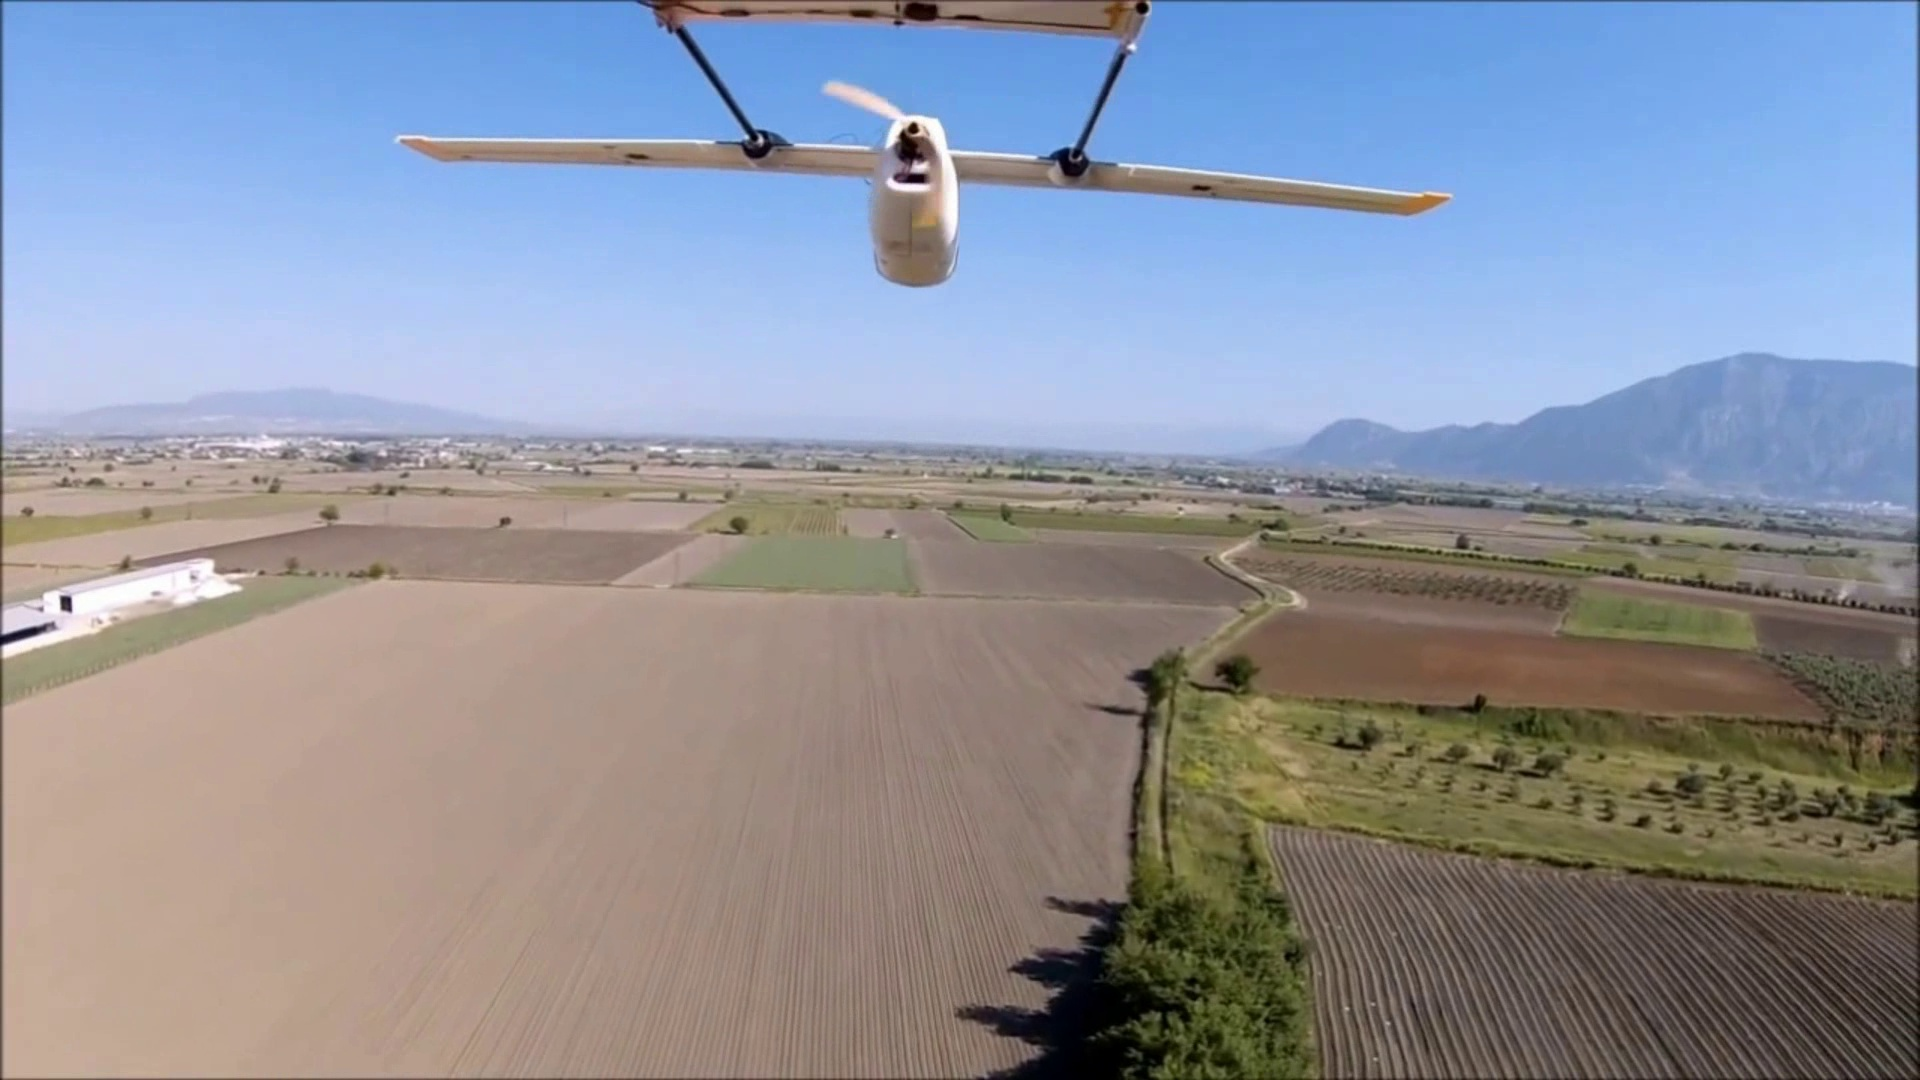airplane: (397, 4, 1447, 285)
